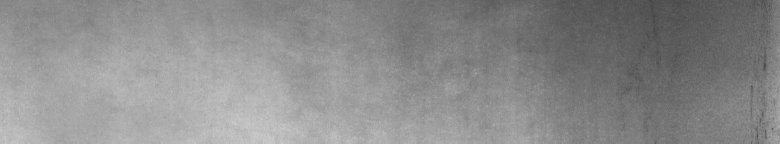ka: (748, 52, 776, 136)
